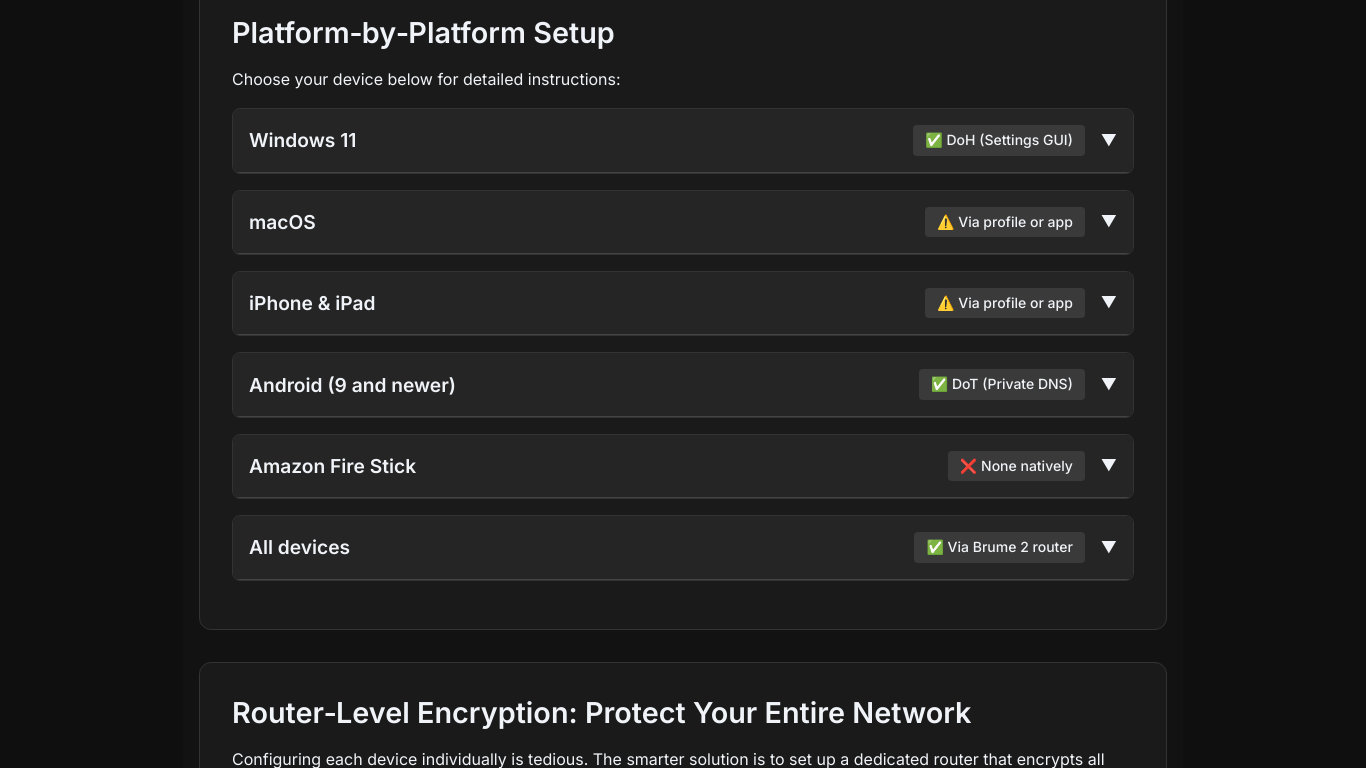
Scenario: dns-guide.jsx › expands Android card on click and shows DoT instructions
(page scrolled)
Click the heading "Android (9 and newer)" at (352,385), box [249, 373, 456, 397]
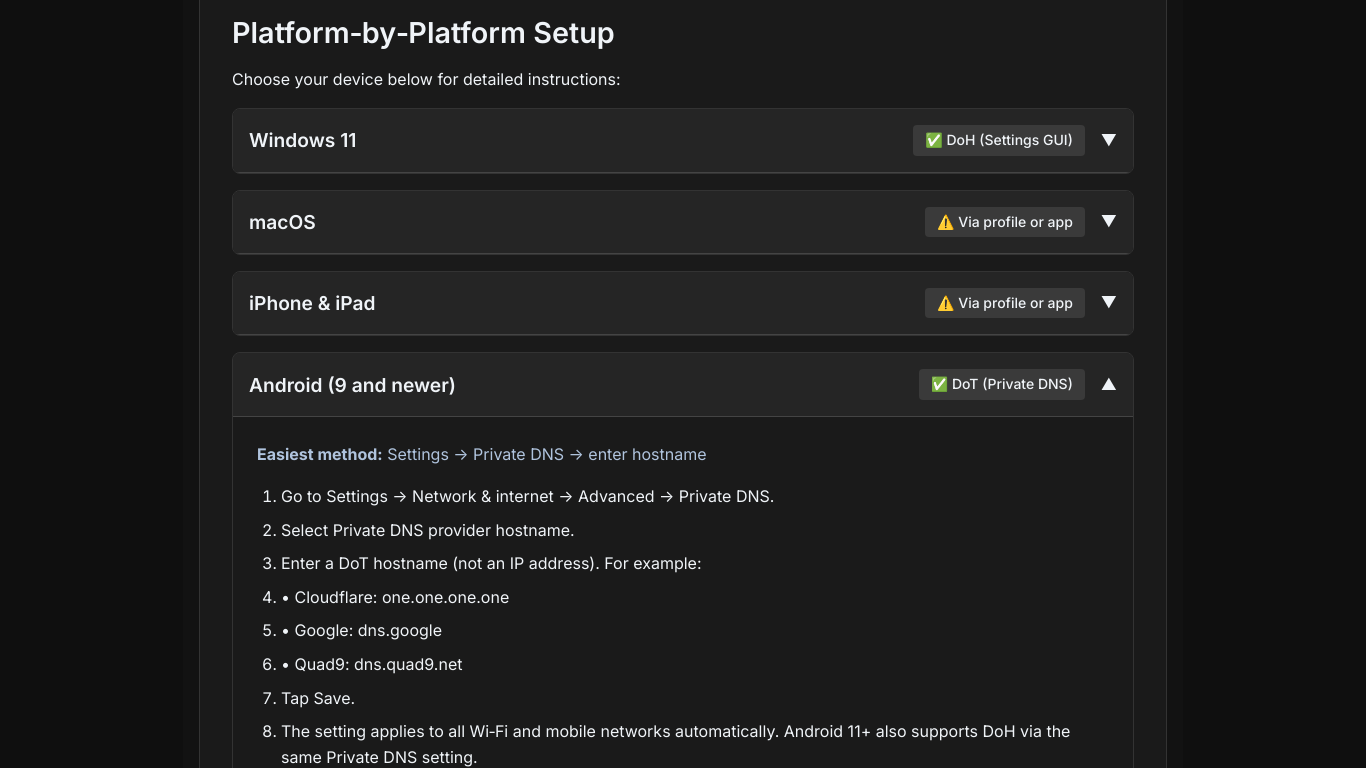
Now the list item "Enter a DoT hostname (not an IP address). For example:" is shown, box [281, 553, 702, 573]
